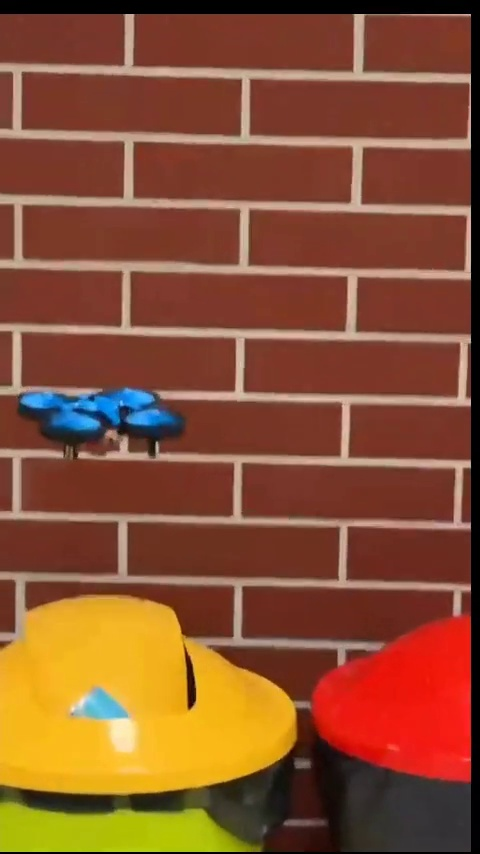drone: (18, 386, 184, 462)
